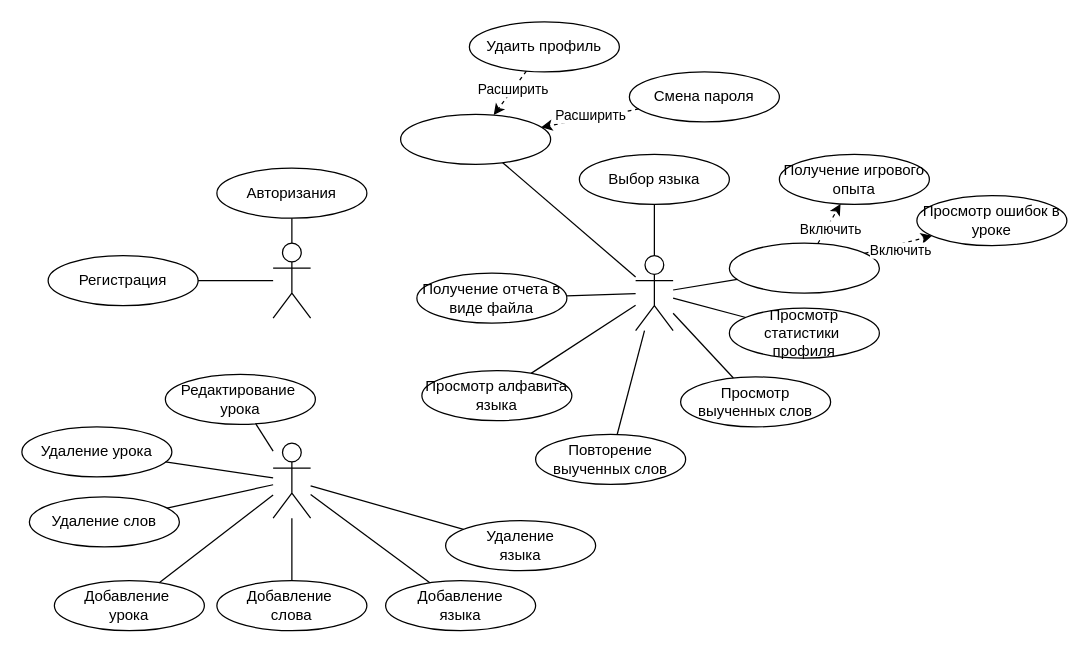
Image size: 1089x653. Some labels were removed from this diagram. Here are the shapes that lost their labels. From the top down, the centre of each, then its label:
pixel 475 138: Редактирование профиля
pixel 291 280: Незарегистрированный пользователь
pixel 803 267: Проходжение урока
pixel 653 292: пользователь
pixel 291 480: администратор
